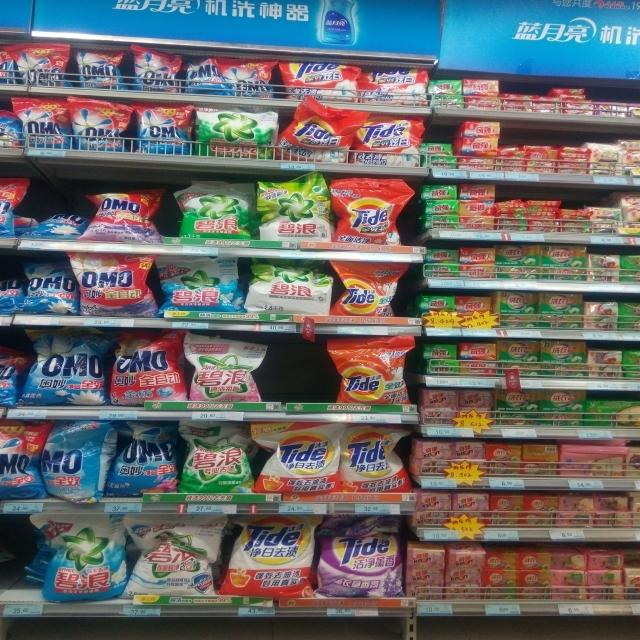void: (276, 339, 324, 400)
